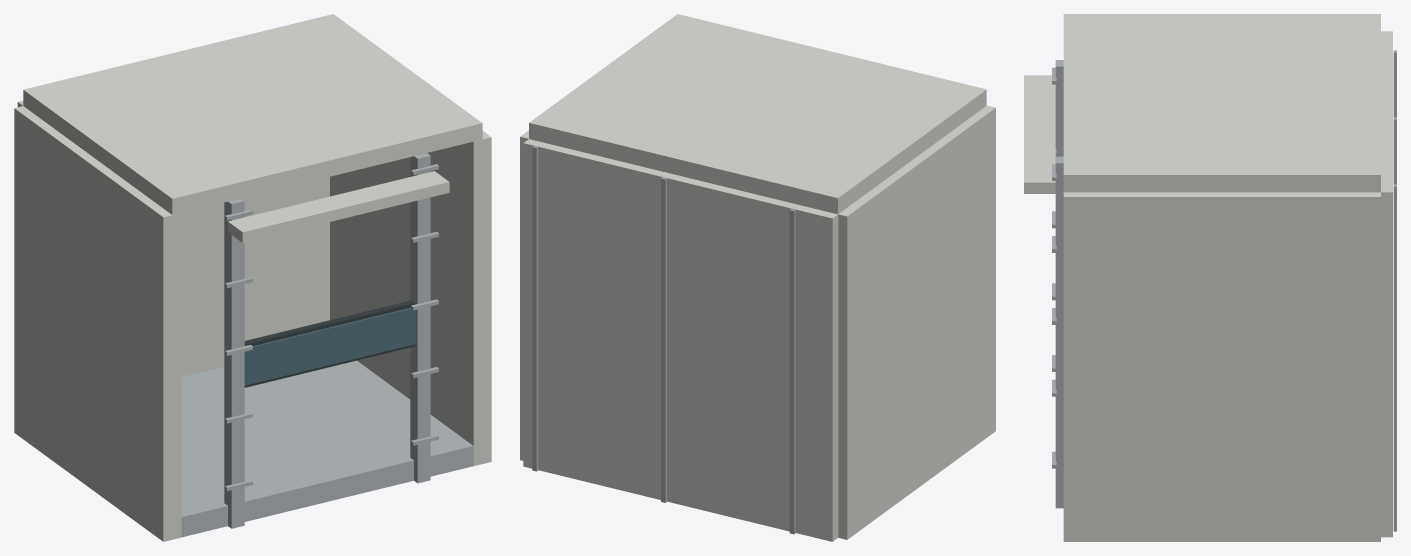
The model's file is prop_hut.glb.
The picture shows the model from 3 angles, left to right: view 1: azimuth 30°, elevation 25°; view 2: azimuth 150°, elevation 25°; view 3: azimuth 270°, elevation 25°; orthographic projection. The views are drawn at different scales.
Visible parts, largest first — view 1: marshal-hut; view 2: marshal-hut; view 3: marshal-hut.
Part boxes in pixels (x1,y1,x2,y2): marshal-hut: [14, 14, 491, 541]; marshal-hut: [520, 14, 995, 541]; marshal-hut: [1024, 14, 1396, 541].
Size of the model in its own units: 2.54 by 2.52 by 2.35.
